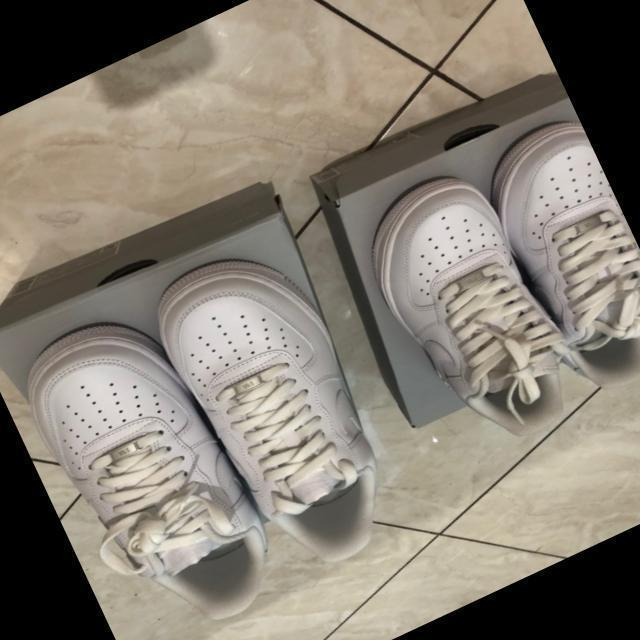nike original air force: (133, 219, 430, 602), (0, 289, 304, 640), (343, 160, 596, 476), (464, 108, 640, 410)
